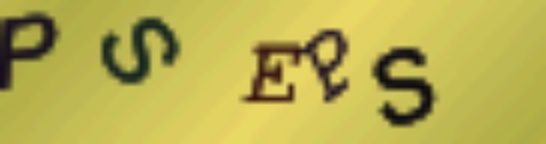E: (239, 39, 307, 106)
P: (1, 6, 65, 95), (304, 26, 353, 105)
S: (100, 11, 183, 88), (371, 42, 442, 128)
